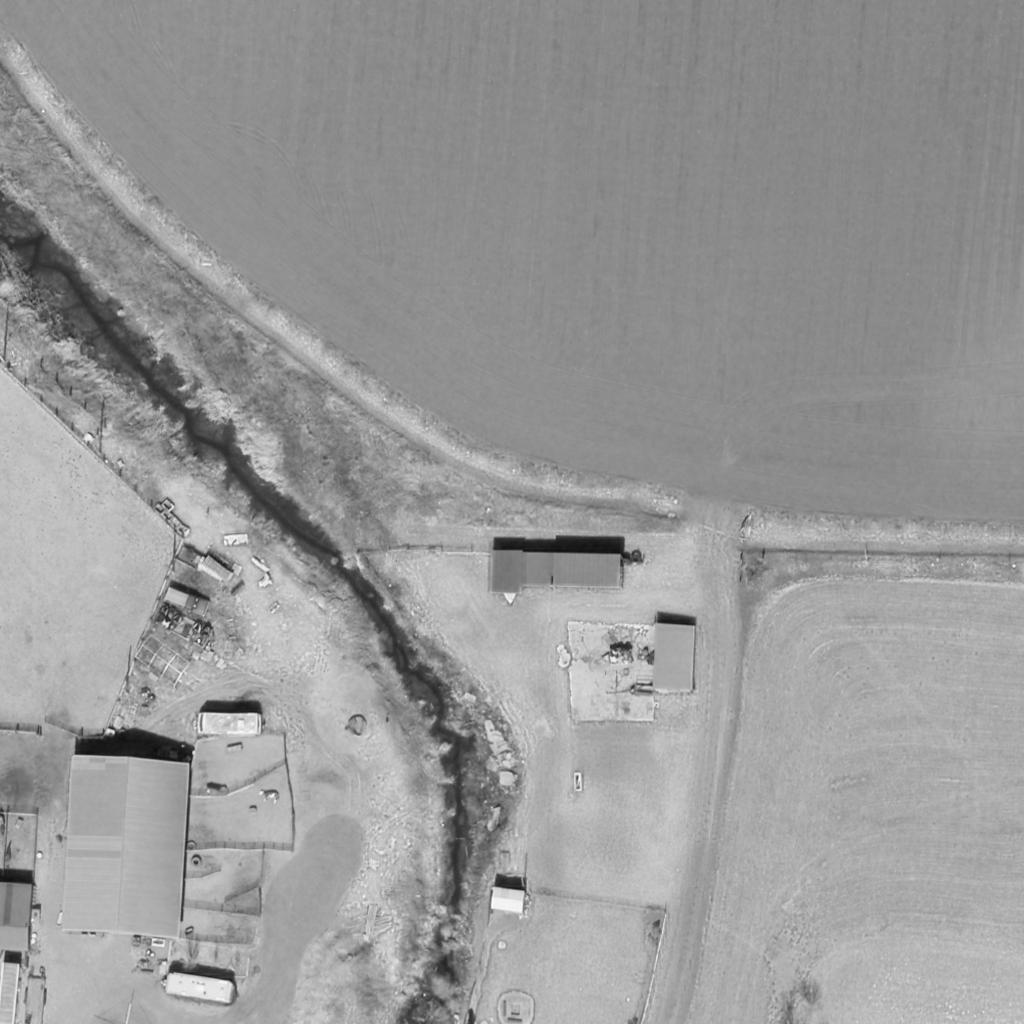vehicle: (165, 974, 231, 1006), (196, 710, 258, 738)
